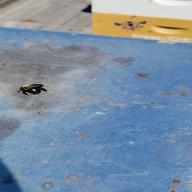Bee: (18, 81, 53, 97)
